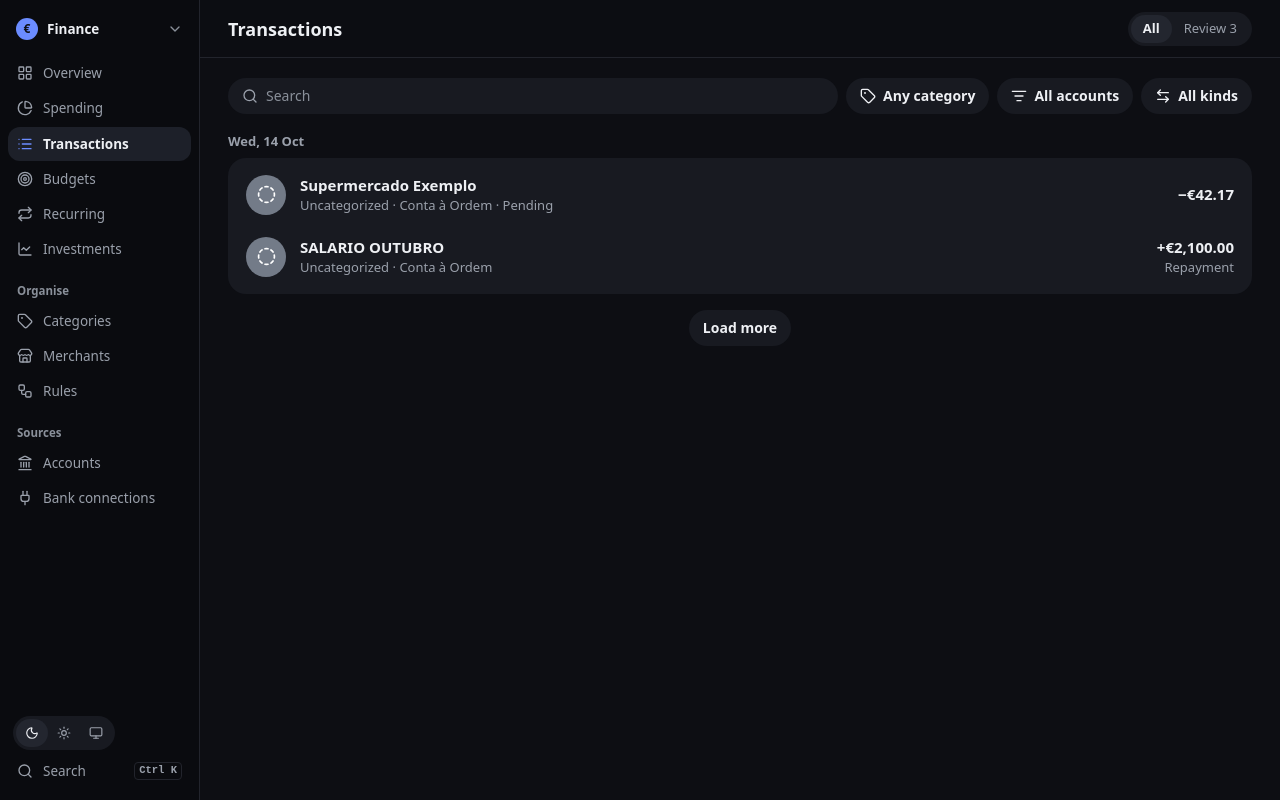
Test: lists transactions and loads more pages
This screenshot has width=1280, height=800.
Check: the text "Supermercado Exemplo" is shown, box top-left (300, 174), bottom-right (477, 194)
Check: the text "Uncategorized · Conta à Ordem · Pending" is shown, box top-left (300, 196), bottom-right (553, 214)
Click the button "Load more" at coordinates (740, 328), box top-left (689, 310), bottom-right (791, 346)
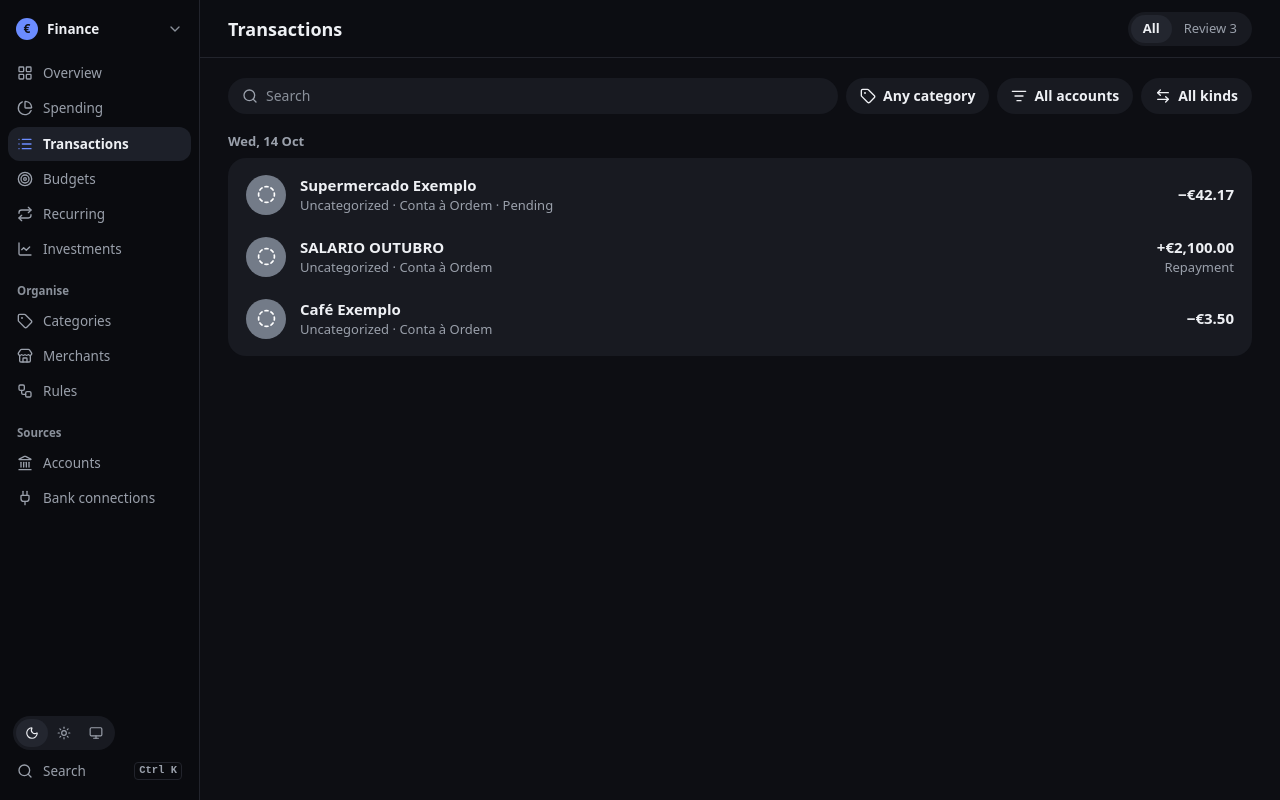
Check: the text "Café Exemplo" is shown, box top-left (300, 298), bottom-right (401, 318)
Check: the button "Load more" is gone
